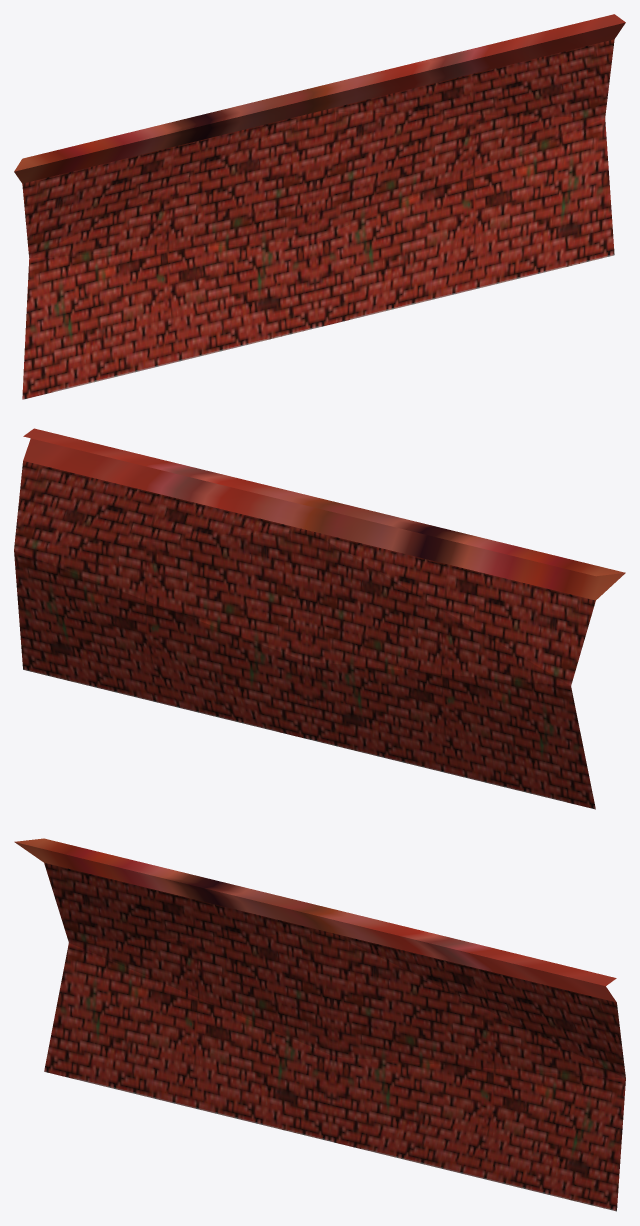
Rendered from W_A2l_xxxx [RoteZiegel]_1729.glb.
The picture shows the model from 3 angles, top to bottom: view 1: azimuth 30°, elevation 25°; view 2: azimuth 150°, elevation 25°; view 3: azimuth 330°, elevation 25°; orthographic projection. The views are drawn at different scales.
Visible parts, largest first — view 1: polySurfaceShape787, polySurfaceShape1065; view 2: polySurfaceShape787, polySurfaceShape1065; view 3: polySurfaceShape787, polySurfaceShape1065.
Boxes of the visible parts, x1=… form: polySurfaceShape787: x1=22, y1=39, x2=614, y2=399; polySurfaceShape1065: x1=14, y1=14, x2=625, y2=183; polySurfaceShape787: x1=14, y1=461, x2=595, y2=809; polySurfaceShape1065: x1=23, y1=428, x2=625, y2=600; polySurfaceShape787: x1=44, y1=863, x2=625, y2=1211; polySurfaceShape1065: x1=14, y1=838, x2=616, y2=1002.
Size of the model in its own units: 1.03 by 0.3891 by 0.0607.
2 materials, 2 textured.
